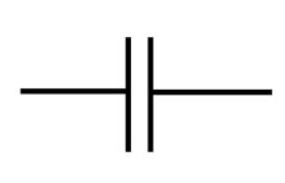Capacitor: (97, 24, 183, 157)
